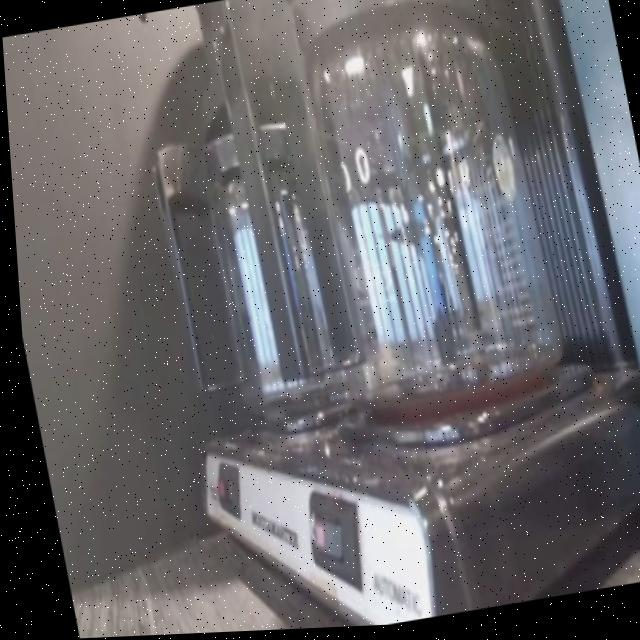nocoffee: (294, 51, 561, 407), (203, 180, 332, 418)
